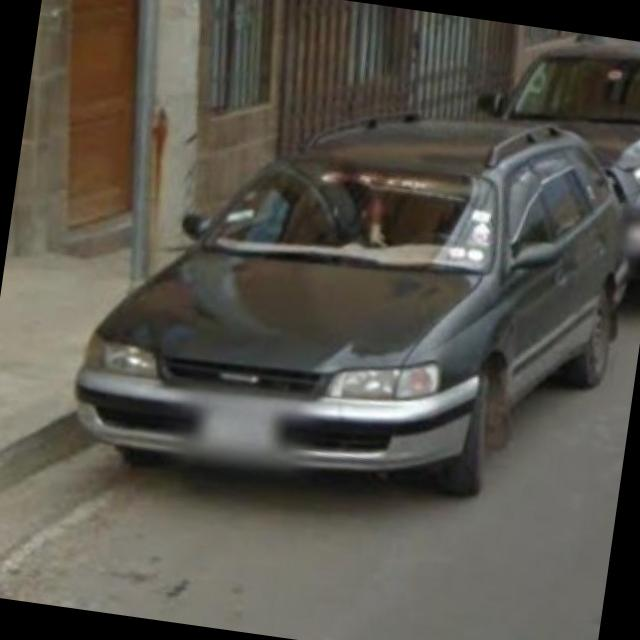car: (77, 85, 624, 526)
